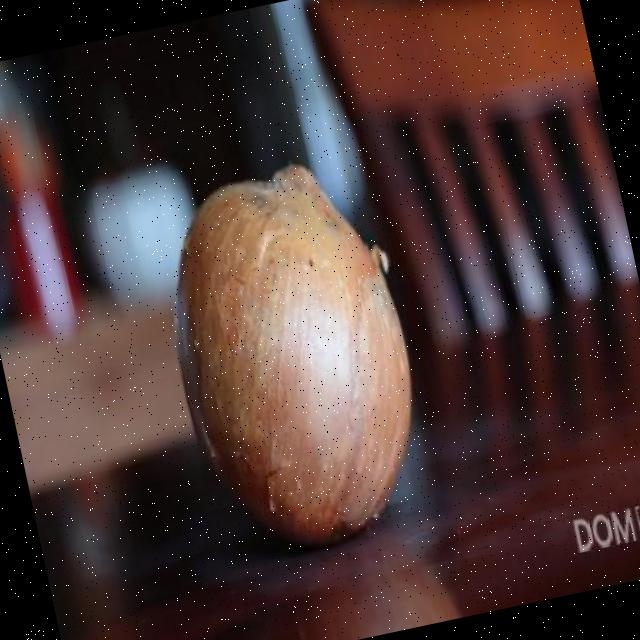Onion: (177, 164, 411, 545)
